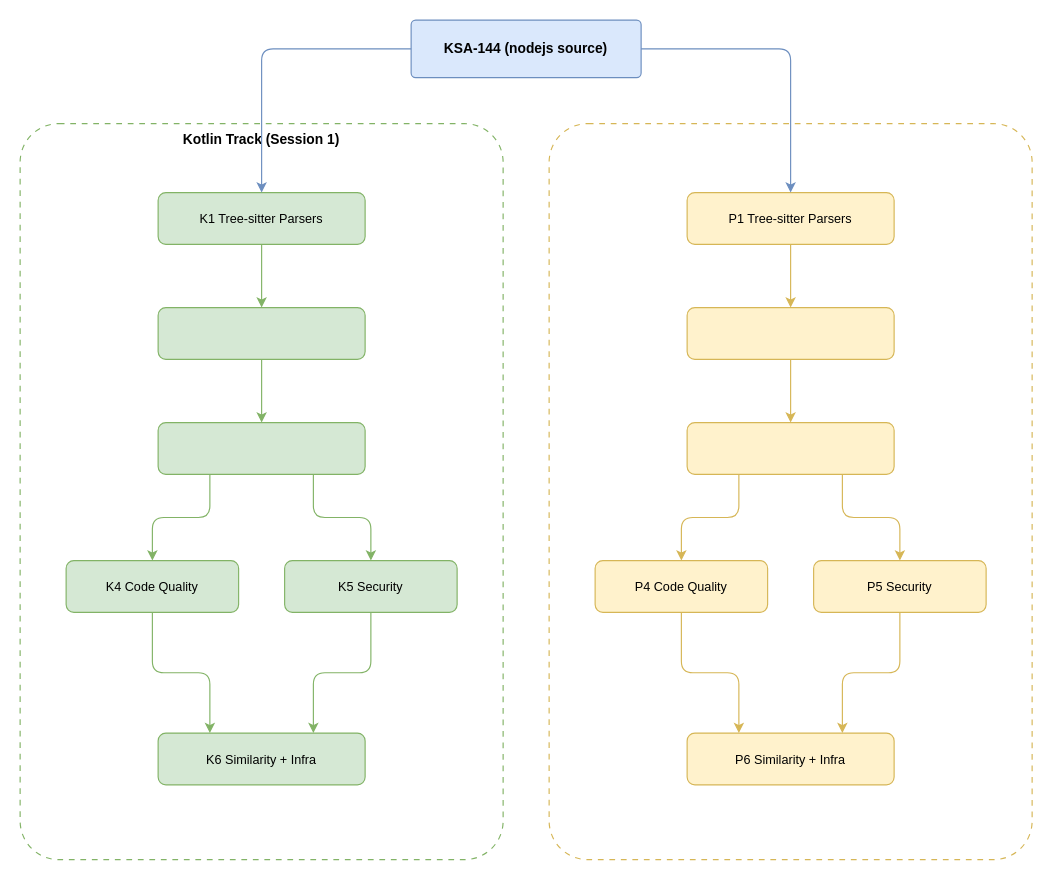
Some shapes in this 1052 by 880 pixel diagram are drawn without their labels. The box of each missing label's shape, as (x1, y1, x2, y2) in pixels:
K2 Graph Engine: (157, 306, 365, 359)
K3 AI Context Tools: (157, 421, 365, 474)
P2 Graph Engine: (686, 306, 894, 359)
P3 AI Context Tools: (686, 421, 894, 474)
Python Track (Session 2): (548, 122, 1032, 860)
